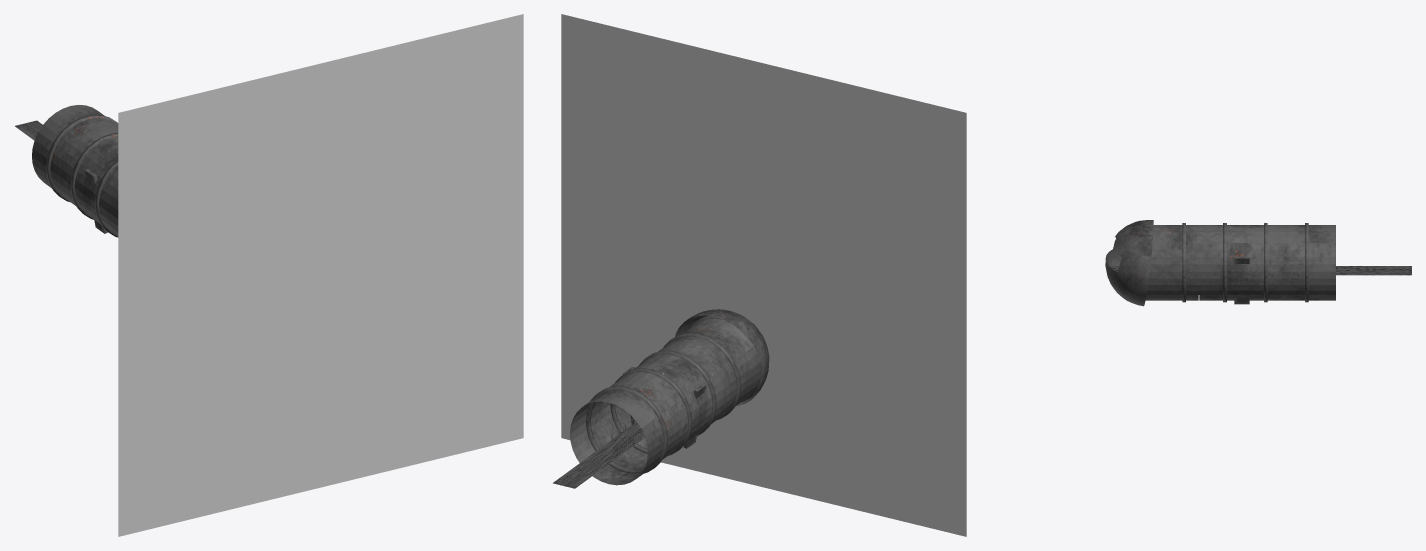
The model's file is statek.fbx.
3 renders of one model, left to right at view 1: azimuth 30°, elevation 25°; view 2: azimuth 150°, elevation 25°; view 3: azimuth 270°, elevation 25°, orthographic. The views are drawn at different scales.
Visible parts, largest first — view 1: Plane.001, Hull, Hull.001; view 2: Plane.001, Hull, Hull.001, Plane, Front Sphere; view 3: Hull, Front Sphere, Hull.001, Plane.
Boxes of the visible parts, left/top/right/bottom form: Plane.001: left=118, top=14, right=523, bottom=536; Hull: left=32, top=105, right=118, bottom=235; Hull.001: left=46, top=114, right=118, bottom=237; Plane.001: left=561, top=14, right=966, bottom=536; Hull: left=570, top=318, right=761, bottom=485; Hull.001: left=586, top=315, right=762, bottom=473; Plane: left=553, top=422, right=644, bottom=488; Front Sphere: left=675, top=309, right=769, bottom=405; Hull: left=1145, top=225, right=1335, bottom=300; Front Sphere: left=1105, top=220, right=1153, bottom=306; Hull.001: left=1182, top=223, right=1308, bottom=302; Plane: left=1109, top=266, right=1411, bottom=275.
Size of what is drawn, in the model's own units: 3350 by 3350 by 3548.
Materials: 3 (3 with a texture image).
